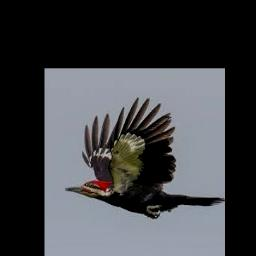Woodpecker: (63, 97, 224, 219)
